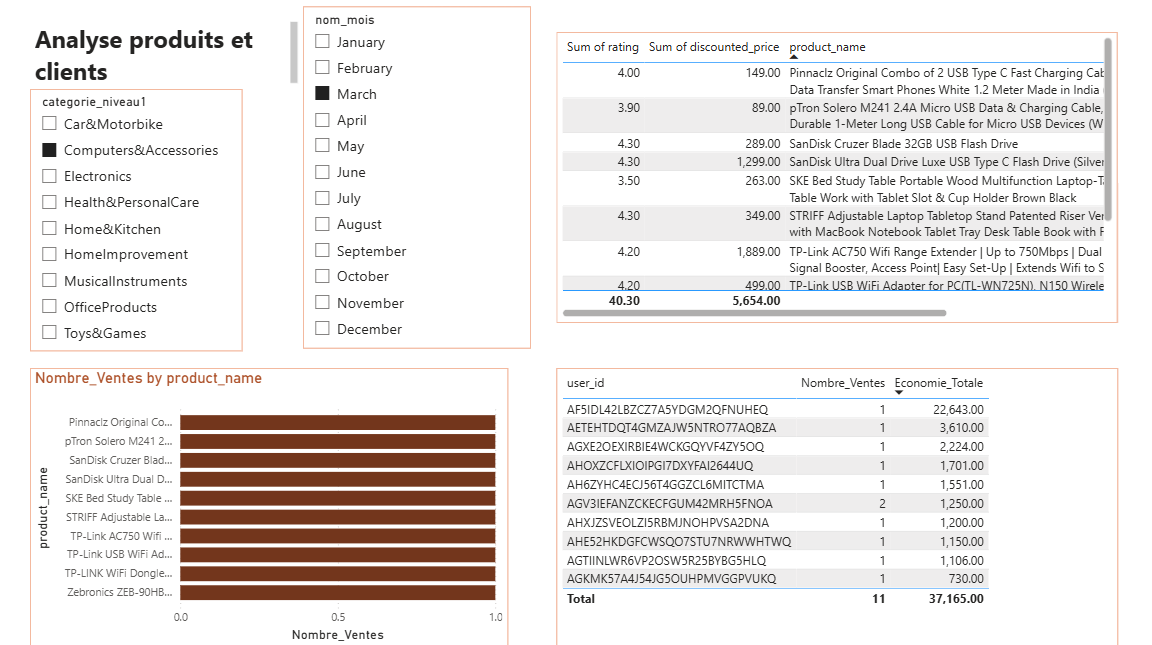

Layout of this report page (visuals, bound fields, positions):
{"tool":"powerbi","page":{"name":"Analyse produits et clients","canvas":[1280,720],"ordinal":1},"visuals":[{"type":"slicer","fields":{"Values":["Dim_Categorie.categorie_niveau1"]},"box":[34,100.2,236.2,291],"z":0},{"type":"slicer","fields":{"Values":["Dim_Date.nom_mois"]},"box":[337,7.7,253.2,379.8],"z":1000},{"type":"tableEx","fields":{"Values":["Sum(Fait_Ventes.rating)","Sum(Fait_Ventes.discounted_price)","Dim_Produit.product_name"]},"box":[618,35.9,623.6,323.2],"z":2000},{"type":"barChart","fields":{"Category":["Dim_Produit.product_name"],"Y":["Dim_Categorie.Nombre_Ventes"]},"box":[34,410.1,531,309.9],"z":3000},{"type":"tableEx","fields":{"Values":["Dim_Client.user_id","Dim_Categorie.Nombre_Ventes","Dim_Categorie.Economie_Totale"]},"box":[618,410.1,624,310],"z":4000},{"type":"textbox","box":[34,20.8,302.4,79.4],"z":4001}]}

Visuals, with their boxes in screenshot pixels (x1, y1, x2, y2), scaled from the page's 1280x720 canvas onto the 1152x645 screenshot:
slicer - Dim_Categorie.categorie_niveau1: <box>31,90,243,350</box>
slicer - Dim_Date.nom_mois: <box>303,7,531,347</box>
tableEx - Sum(Fait_Ventes.rating) x Sum(Fait_Ventes.discounted_price): <box>556,32,1117,322</box>
barChart - Dim_Produit.product_name x Dim_Categorie.Nombre_Ventes: <box>31,367,508,644</box>
tableEx - Dim_Client.user_id x Dim_Categorie.Nombre_Ventes: <box>556,367,1118,644</box>
textbox: <box>31,19,303,90</box>
